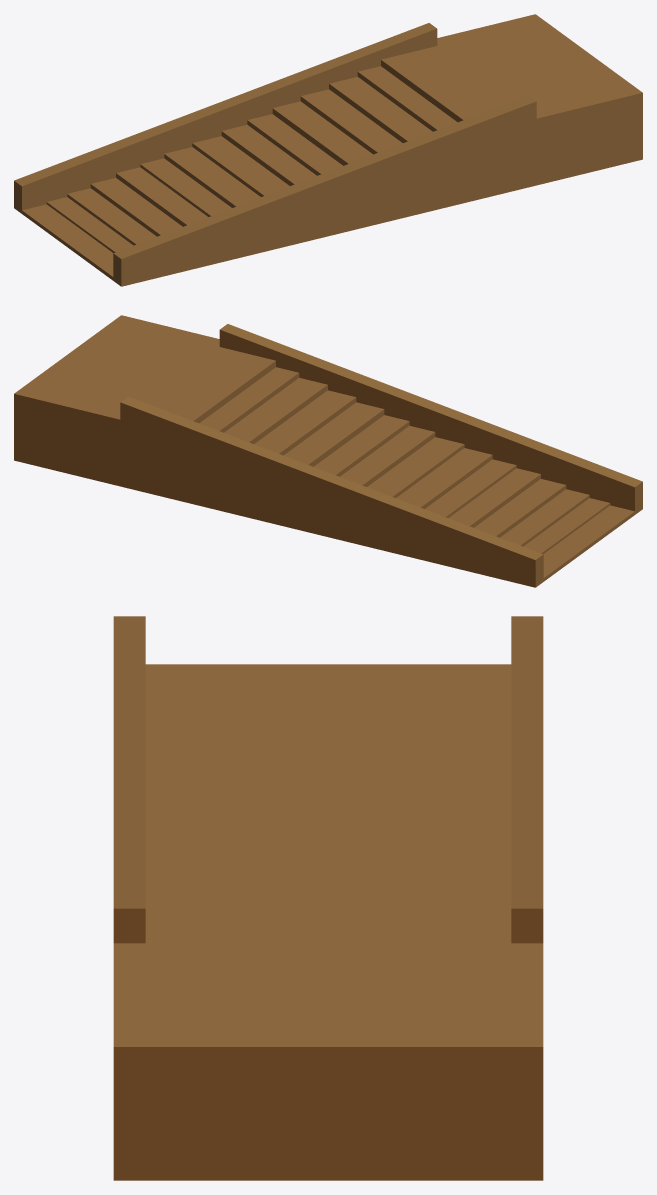
The model's file is stair.fbx.
3 views of the same model, one above another, from view 1: azimuth 30°, elevation 25°; view 2: azimuth 150°, elevation 25°; view 3: azimuth 270°, elevation 25° (orthographic). The views are drawn at different scales.
Visible parts, largest first — view 1: stair; view 2: stair; view 3: stair.
Boxes of the visible parts, x1,y1,x2,y2 form: stair: (14,14,642,286); stair: (14,315,642,587); stair: (113,616,543,1180).
Bounding box in the file's own units: 23.97 × 3.7 × 8.55.
